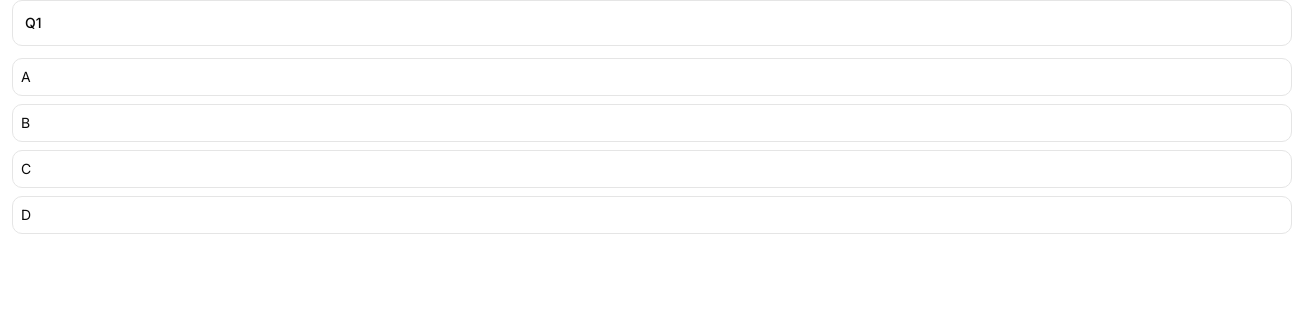
QuizOutput › gives instant feedback and reveals the source only when wrong
This screenshot has width=1304, height=323.
Expected: the text "Q1" is shown, [12, 0, 1292, 46]
Click the button "A".
click(26, 76)  # box [12, 58, 1292, 96]
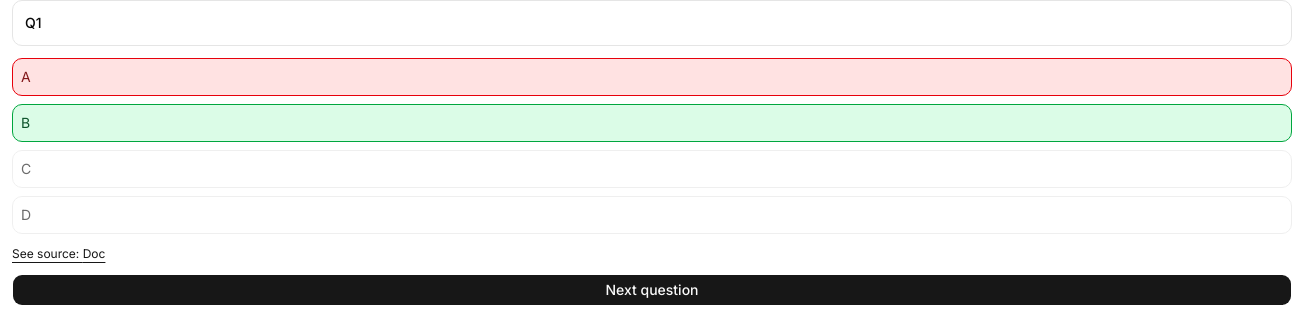
Result: the button "See source: Doc" is shown at [12, 246, 105, 262]
Result: the button "Next question" is shown at [12, 274, 1292, 306]
